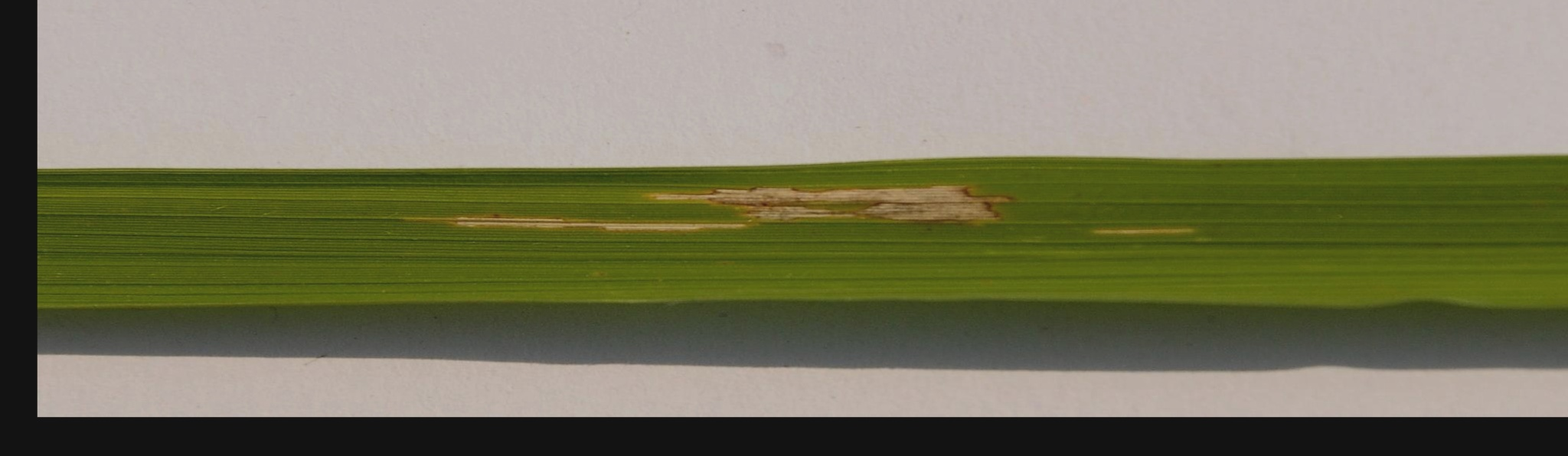Leaf_Blast: (289, 176, 1223, 269)
